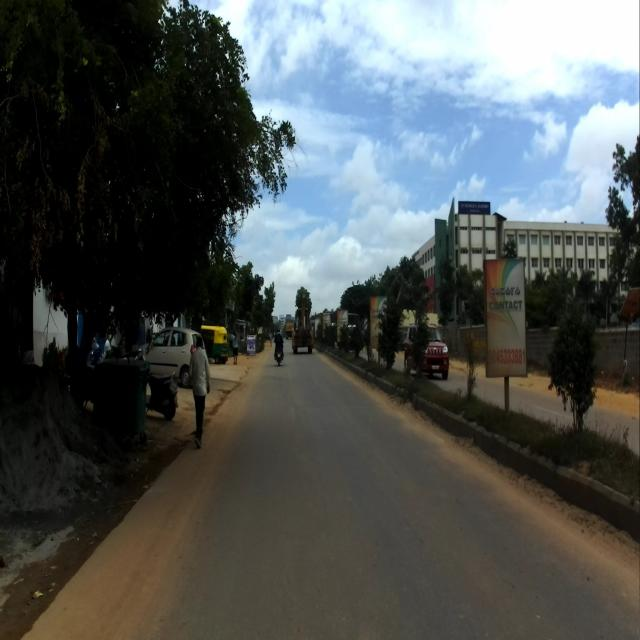car: (136, 326, 206, 387), (403, 324, 450, 378)
motorcycle: (274, 340, 284, 366)
scooter: (135, 348, 179, 419)
